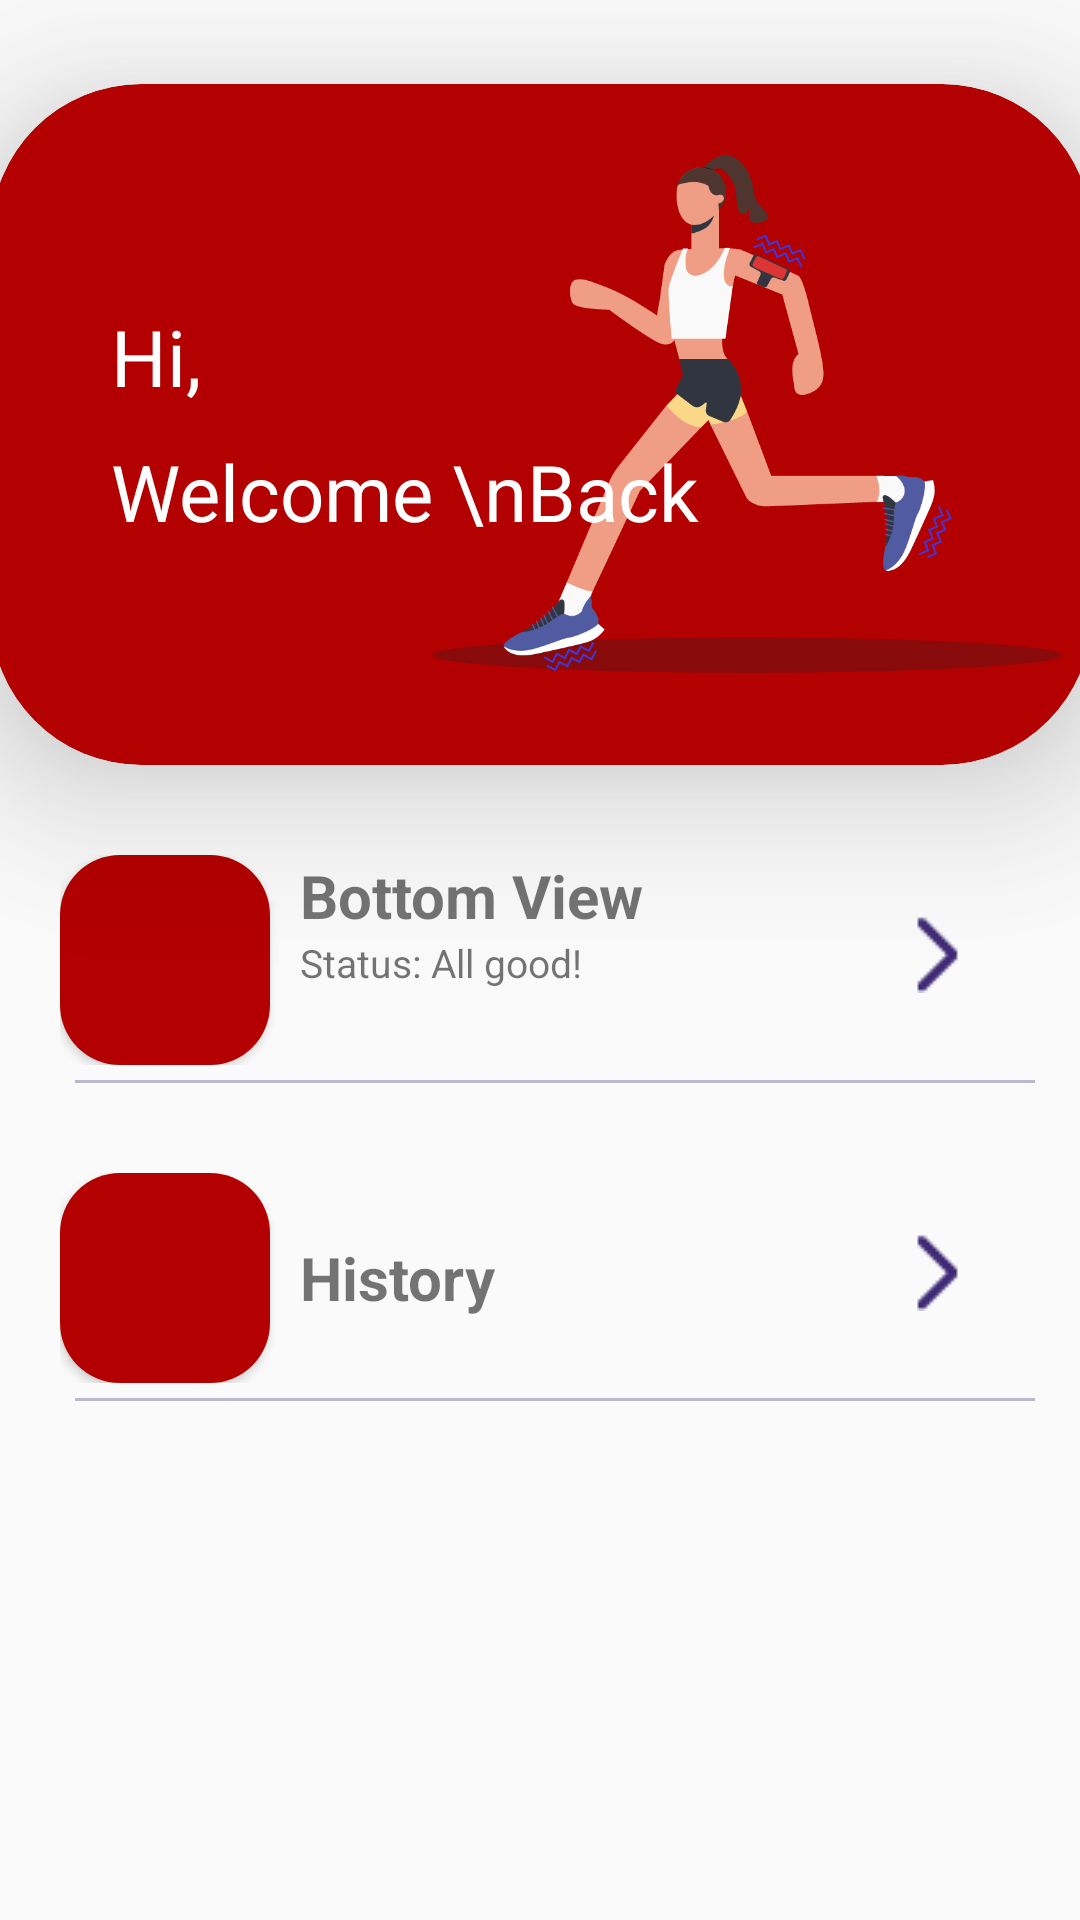

Where to tap for icons on this 1080 x 1920 app screen, as (x,y):
next: (937,955), (937,1273)
